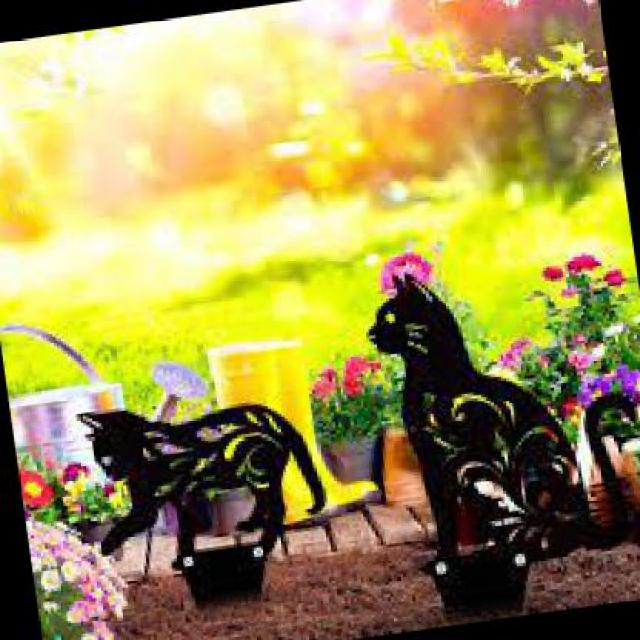animals: (346, 246, 639, 582), (60, 373, 362, 565)
